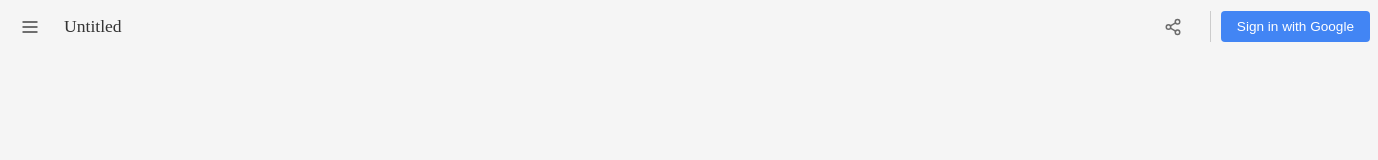
Test case: Header › Title editing › clears "Untitled" placeholder when editing
The image size is (1378, 160).
Click the button "Untitled" at (93,26), box top-left (52, 8), bottom-right (134, 45)
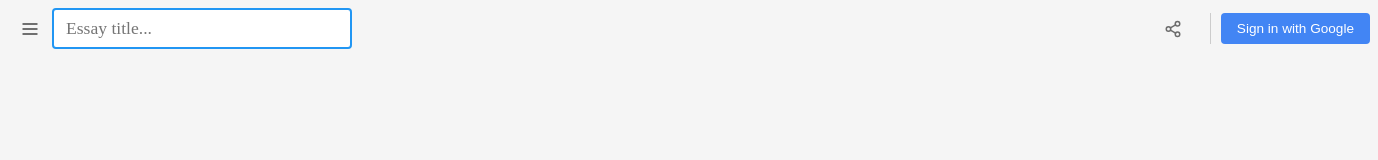
Result: the field with placeholder "Essay title..." is empty at top-left (52, 8), bottom-right (352, 49)
